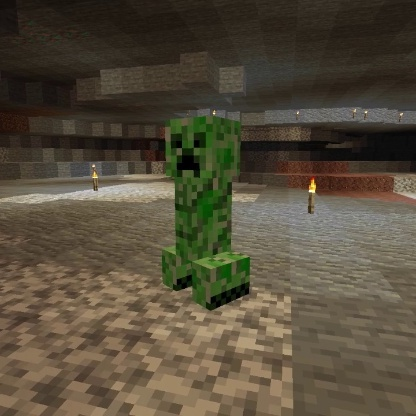creeper: (158, 113, 253, 314)
